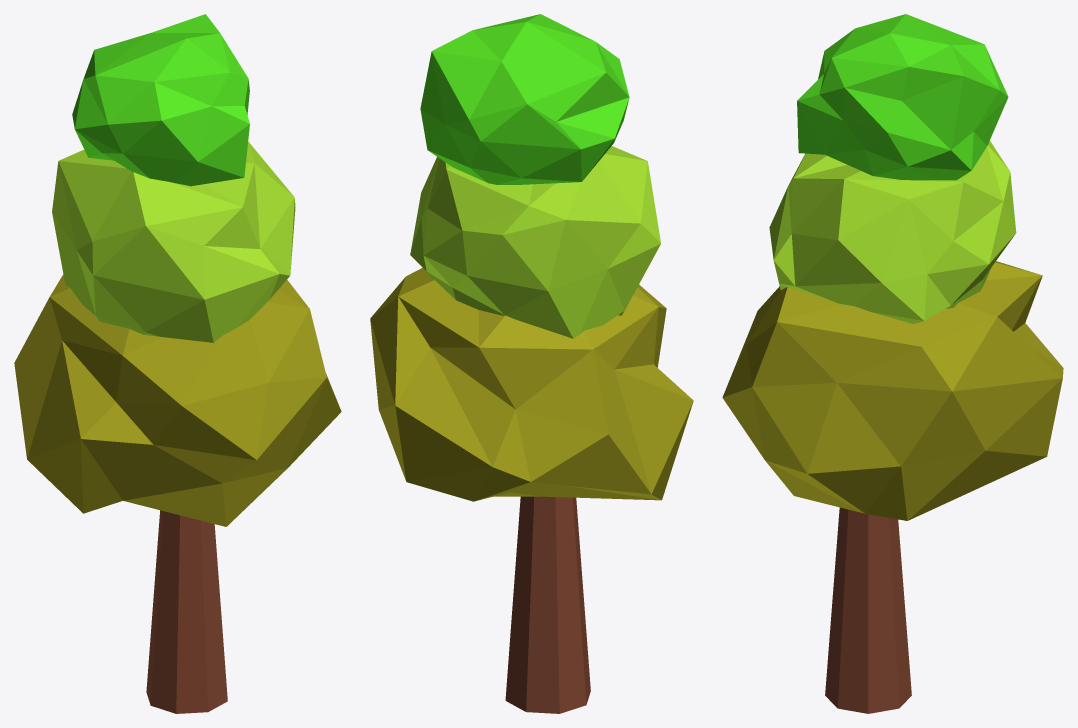
The model's file is Tree_01.fbx.
The picture shows the model from 3 angles, left to right: view 1: azimuth 30°, elevation 25°; view 2: azimuth 150°, elevation 25°; view 3: azimuth 270°, elevation 25°; orthographic projection. The views are drawn at different scales.
Visible parts, largest first — view 1: tree3.001; view 2: tree3.001; view 3: tree3.001.
Part boxes in pixels (x1,y1,x2,y2): tree3.001: (14,14,341,713); tree3.001: (370,14,693,713); tree3.001: (722,14,1063,713).
Bounding box in the file's own units: 251 × 600 × 278.
